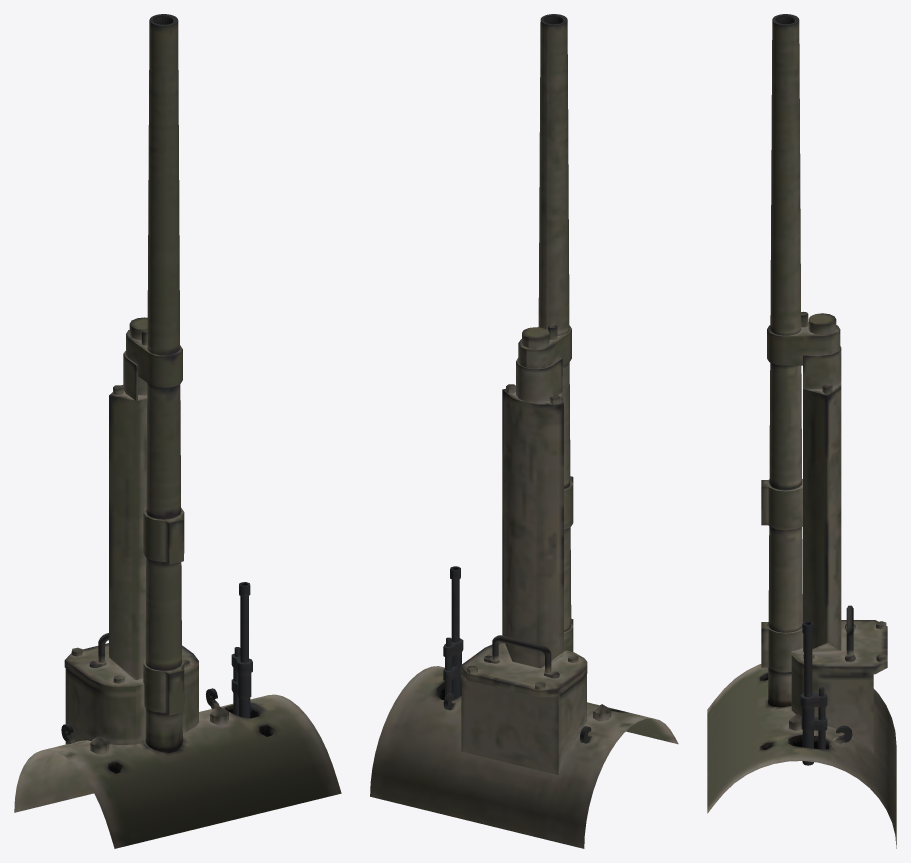
Rendered from Gun_04.glb.
3 renders of one model, left to right at view 1: azimuth 30°, elevation 25°; view 2: azimuth 150°, elevation 25°; view 3: azimuth 270°, elevation 25°, orthographic. The views are drawn at different scales.
Visible parts, largest first — view 1: set_0_group_0; view 2: set_0_group_0; view 3: set_0_group_0.
Part boxes in pixels (box(x1,y1,x2,y2)): set_0_group_0: box(14, 14, 341, 848); set_0_group_0: box(370, 14, 678, 848); set_0_group_0: box(707, 14, 896, 848).
Size of the model in its own units: 0.4919 by 1.68 by 0.3764.
1 material, 1 textured.
